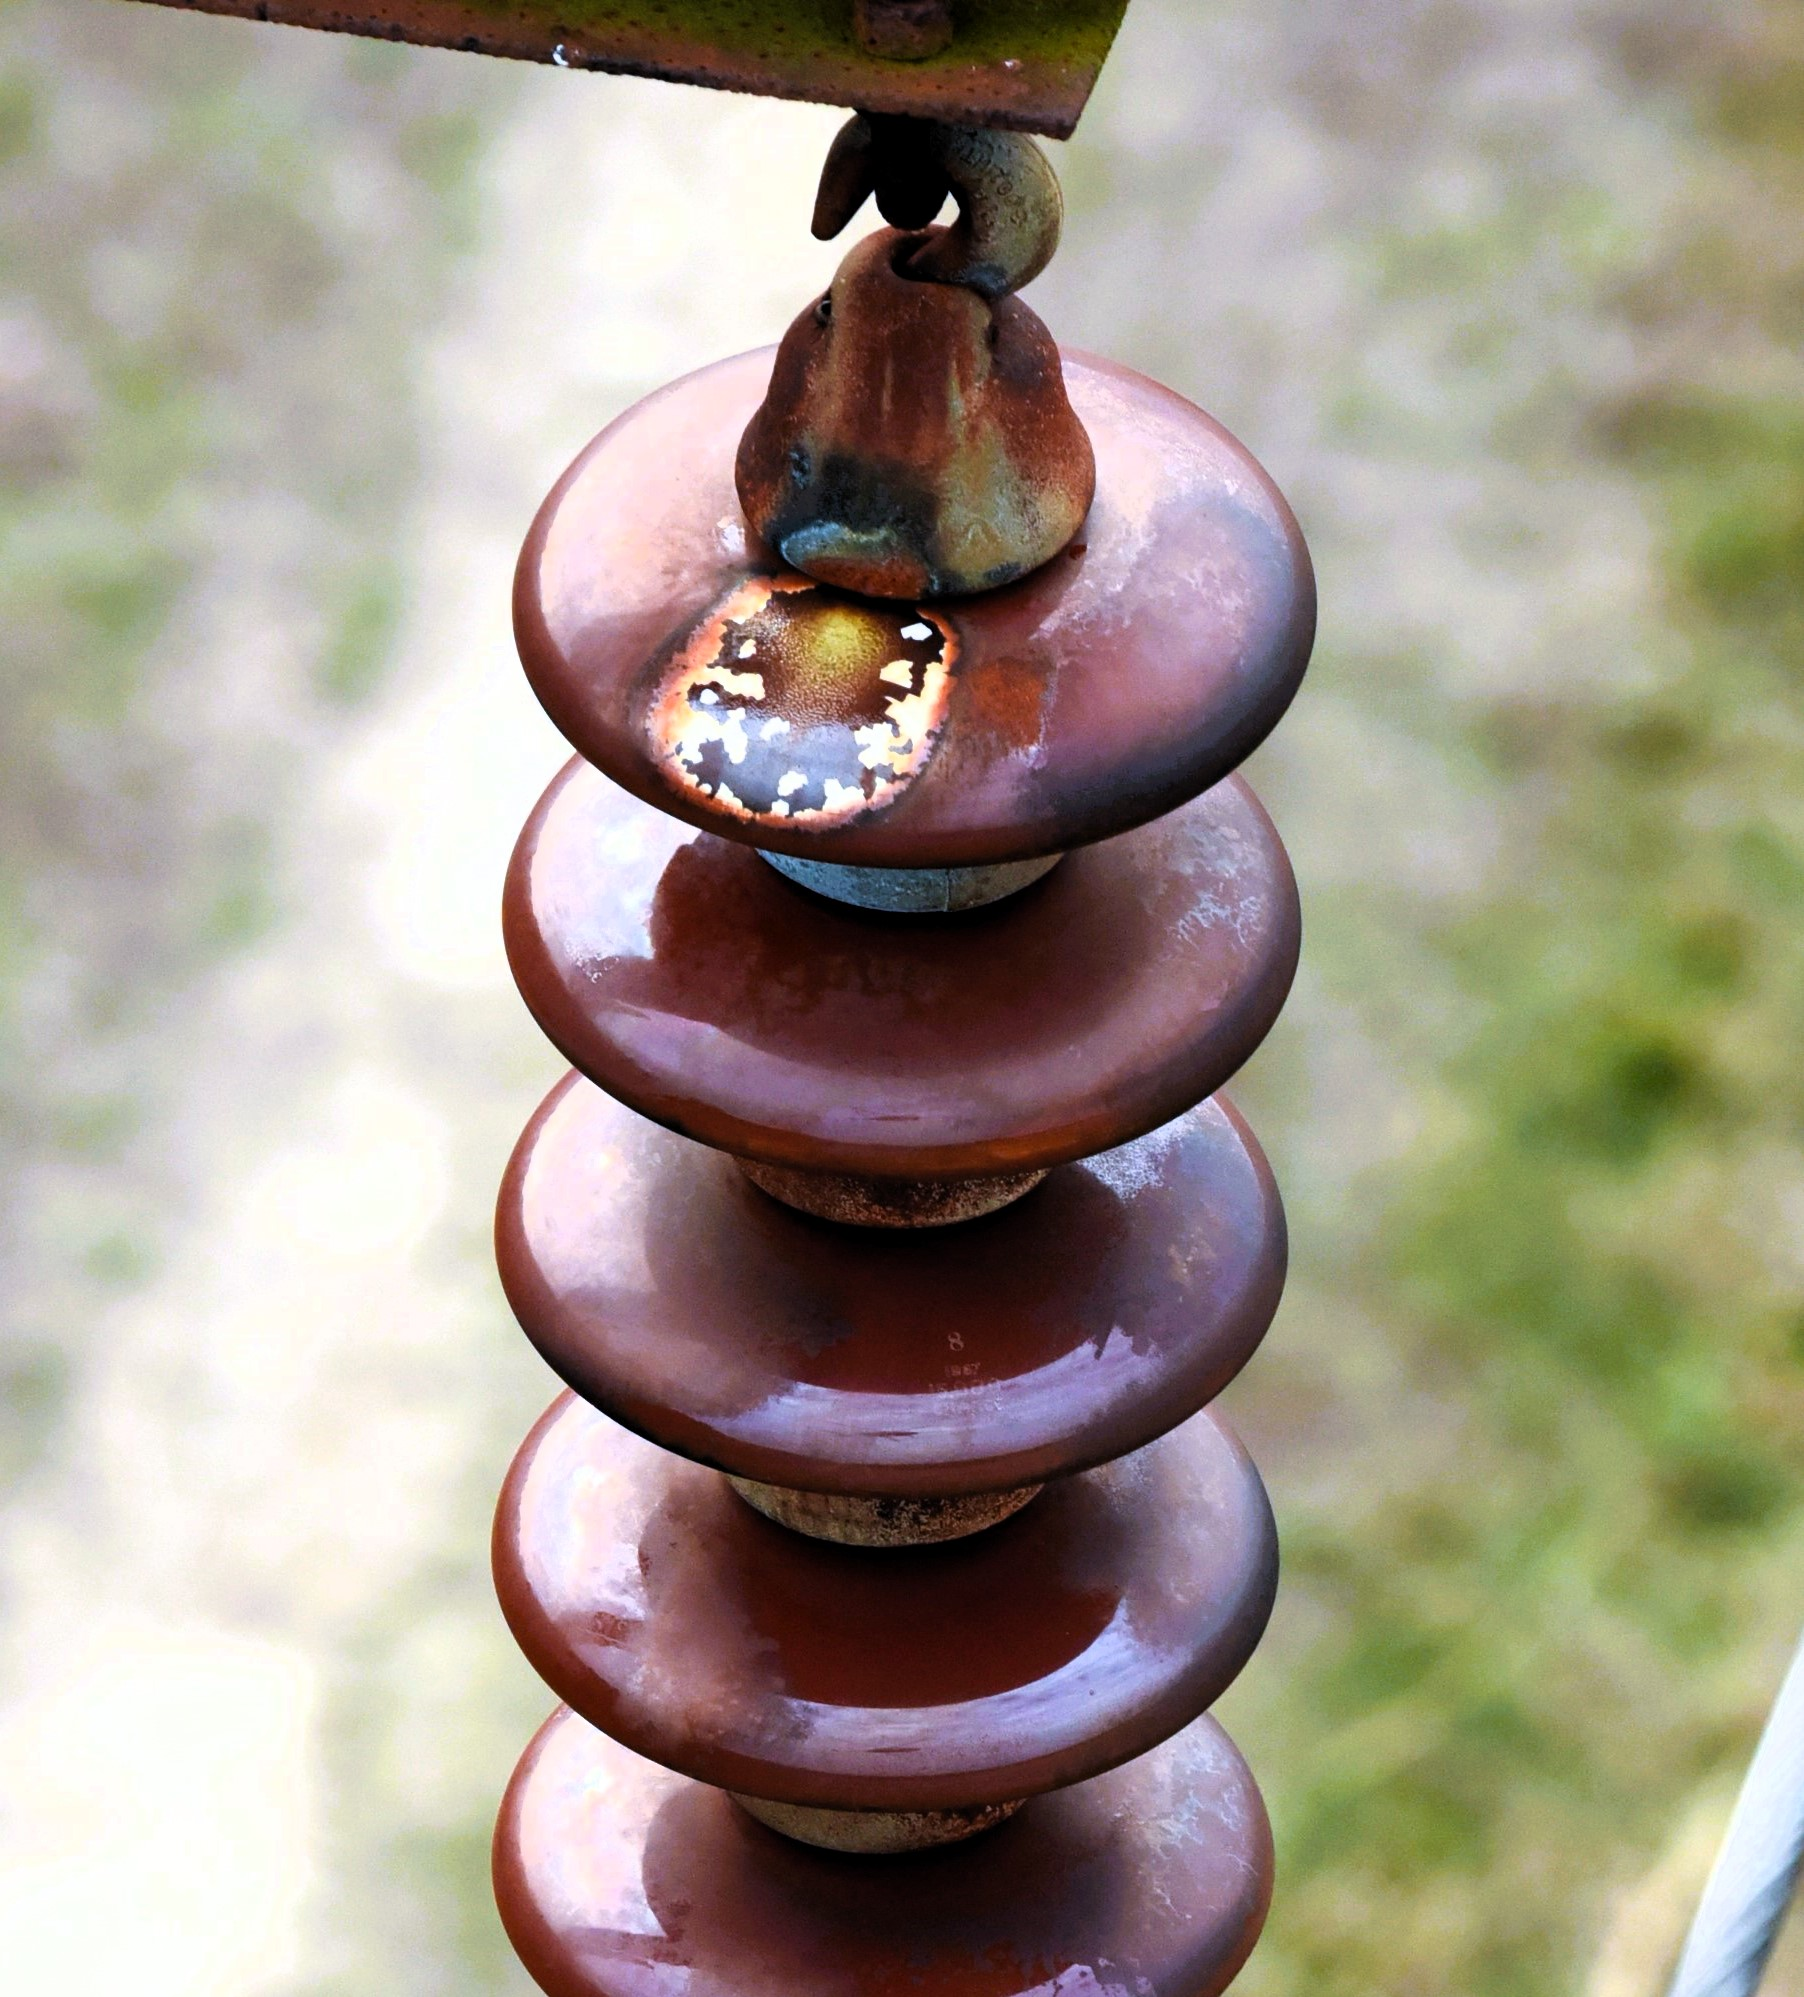Insulator flashover: (491, 294, 1336, 894)
